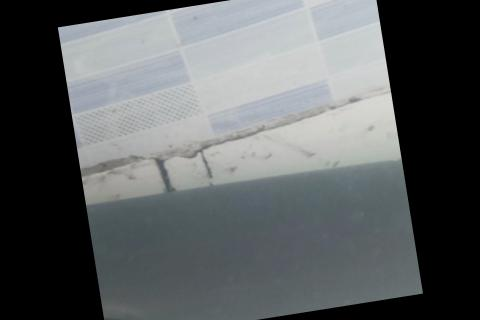keretakan: (103, 279, 339, 320)
